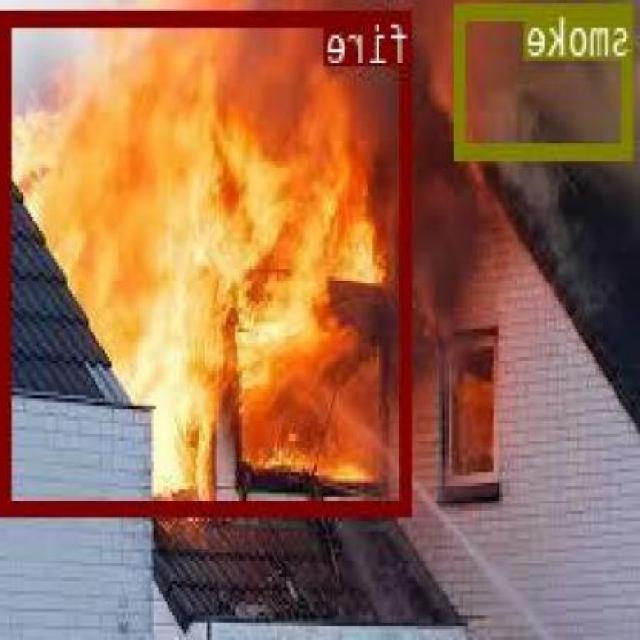Fire: (4, 8, 413, 510)
Smoke: (456, 1, 635, 156)
